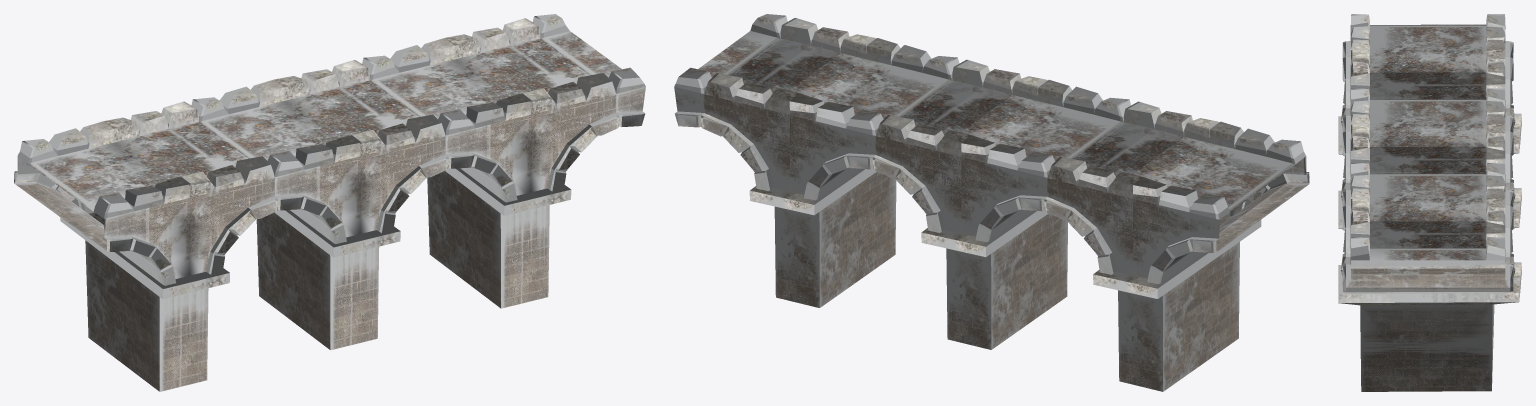
The model's file is bridge_winter.glb.
3 renders of one model, left to right at view 1: azimuth 30°, elevation 25°; view 2: azimuth 150°, elevation 25°; view 3: azimuth 270°, elevation 25°, orthographic. The views are drawn at different scales.
Visible parts, largest first — view 1: bridge_1_Mat_0; view 2: bridge_1_Mat_0; view 3: bridge_1_Mat_0.
Boxes of the visible parts, bbox=[...] form: bridge_1_Mat_0: bbox=[14, 14, 645, 391]; bridge_1_Mat_0: bbox=[674, 14, 1309, 391]; bridge_1_Mat_0: bbox=[1338, 14, 1521, 391].
Size of the model in its own units: 2002 by 732 by 658.
1 material, 1 textured.
